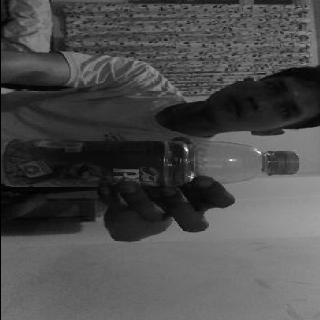plastic_bottles: (2, 140, 296, 188)
